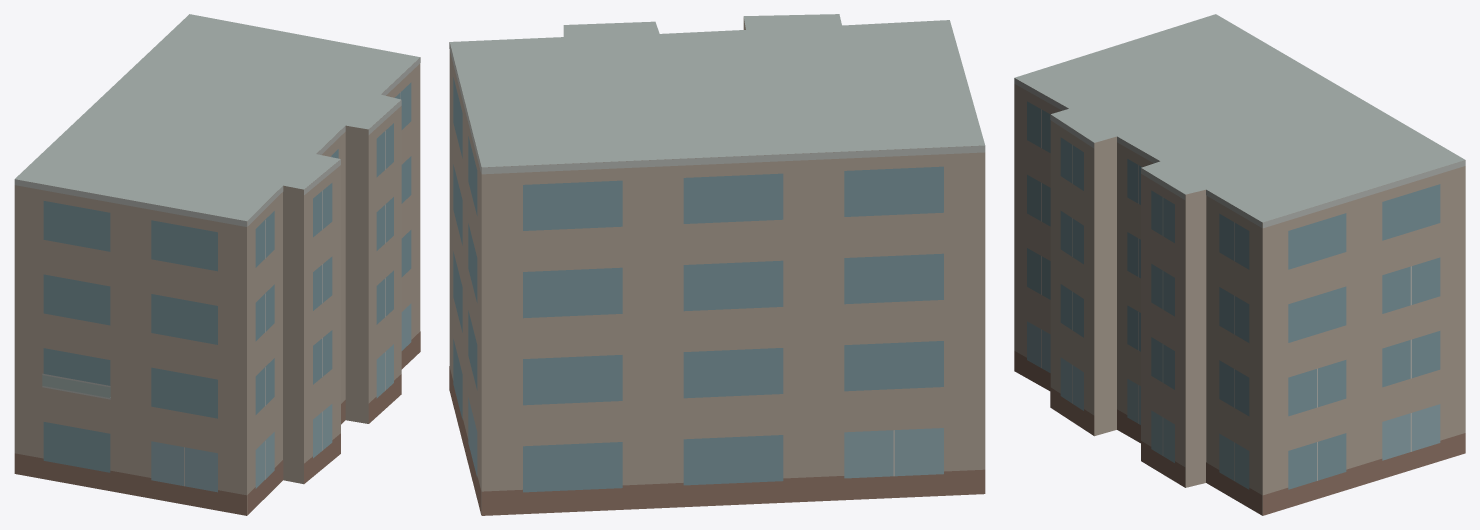
File: survey-upis-32934202.glb
3 renders of one model, left to right at view 1: azimuth 30°, elevation 25°; view 2: azimuth 150°, elevation 25°; view 3: azimuth 270°, elevation 25°, orthographic. The views are drawn at different scales.
Parts seen in each view (by area): view 1: survey-upis-32934202.tmp; view 2: survey-upis-32934202.tmp; view 3: survey-upis-32934202.tmp.
Boxes of the visible parts, x1,y1,x2,y2 form: survey-upis-32934202.tmp: (14, 14, 420, 515); survey-upis-32934202.tmp: (449, 14, 985, 515); survey-upis-32934202.tmp: (1014, 14, 1465, 515).
Size of the model in its own units: 18.62 by 12.2 by 17.02.
